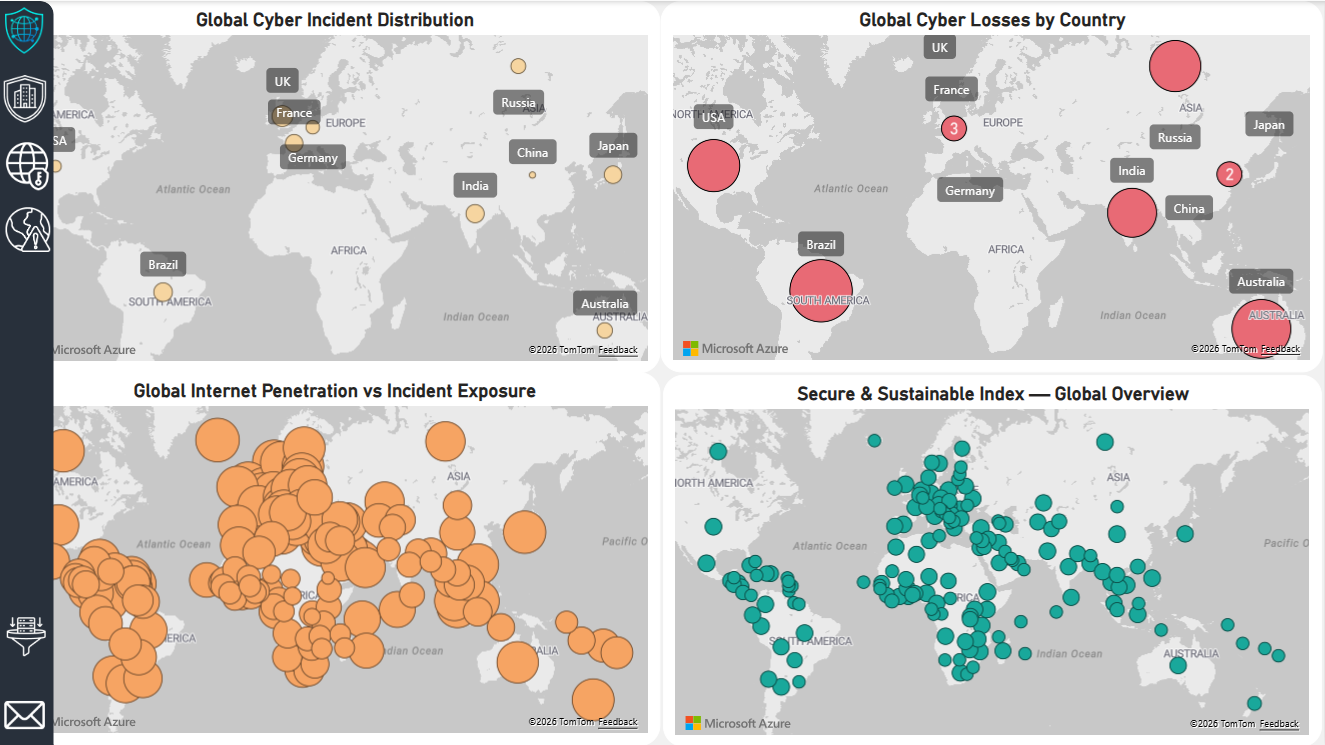

This screenshot's page, from the dashboard's own definition file:
{"tool":"powerbi","page":{"name":"Global Maps","canvas":[1280,720],"ordinal":3},"visuals":[{"type":"group","id":"g1","title":"Maps","box":[9.6,0,1269.7,720.2],"z":0},{"type":"azureMap","title":"Global Cyber Incident Distribution","fields":{"Category":["Fact_GlobalThreats.Country"],"Size":["Measures – GlobalThreats.Total Global Incidents"]},"box":[9.6,0,629.8,359.5],"z":0,"group":"g1"},{"type":"shape","box":[612.8,335.8,52.1,50.6],"z":0,"group":"g2"},{"type":"azureMap","title":"Global Cyber Losses by Country","fields":{"Category":["Fact_GlobalThreats.Country"],"Size":["Measures – GlobalThreats.Total Global Loss(USD)"]},"box":[639.8,0,639.4,358.3],"z":1000,"group":"g1"},{"type":"image","title":"Logo","box":[612.8,338.7,52.1,44.8],"z":1000,"group":"g2"},{"type":"group","id":"g2","title":"mid butt","box":[612.8,335.8,52.1,50.6],"z":2000},{"type":"azureMap","title":"Global Internet Penetration vs Incident Exposure","fields":{"Category":["WorldSustainabilityDataset.Country"],"Size":["Measures – Sustainability.Avg Internet Users (%)"]},"box":[9.8,358.8,629.6,360.4],"z":2000,"group":"g1"},{"type":"azureMap","title":"Secure & Sustainable Index — Global Overview","fields":{"Category":["WorldSustainabilityDataset.Country"],"Size":["Measures – Combined.Secure & Sustainable Index"]},"box":[642.3,360.7,635.8,359.5],"z":3000,"group":"g1"}]}

Visuals, with their boxes on the page's 1280x720 design canvas (x1, y1, x2, y2). These are canvas units, not pixel positions in the 1325x745 screenshot, which may show the page scaled, cropped or inside an application window:
"Maps" group: box=[10, 0, 1279, 720]
"Global Cyber Incident Distribution" azureMap: box=[10, 0, 639, 360]
shape: box=[613, 336, 665, 386]
"Global Cyber Losses by Country" azureMap: box=[640, 0, 1279, 358]
"Logo" image: box=[613, 339, 665, 384]
"mid butt" group: box=[613, 336, 665, 386]
"Global Internet Penetration vs Incident Exposure" azureMap: box=[10, 359, 639, 719]
"Secure & Sustainable Index — Global Overview" azureMap: box=[642, 361, 1278, 720]
